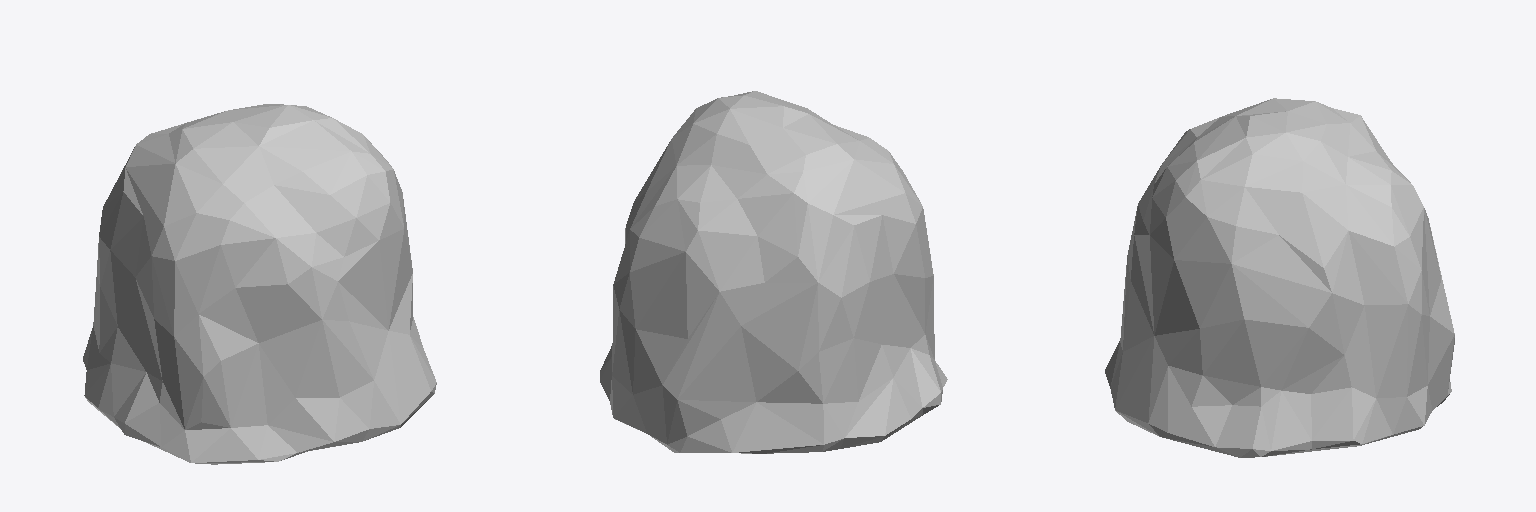
The model's file is blob.obj.
3 views of the same model, side by side, from view 1: azimuth 30°, elevation 25°; view 2: azimuth 150°, elevation 25°; view 3: azimuth 270°, elevation 25° (orthographic).
Parts seen in each view (by area): view 1: Cube; view 2: Cube; view 3: Cube.
Part boxes in pixels (x1,y1,x2,y2): Cube: (83,104,436,464); Cube: (600,91,947,453); Cube: (1105,98,1454,457).
Bounding box in the file's own units: 2.43 × 2.14 × 2.42.